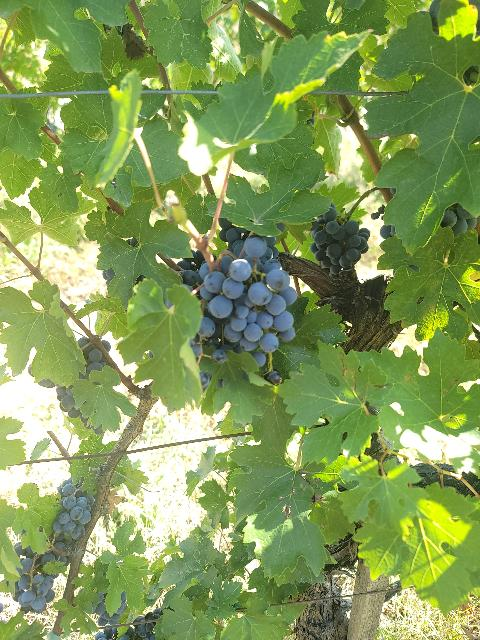grapes: (200, 236, 298, 361), (310, 202, 369, 279), (14, 541, 66, 614), (51, 478, 95, 540)
